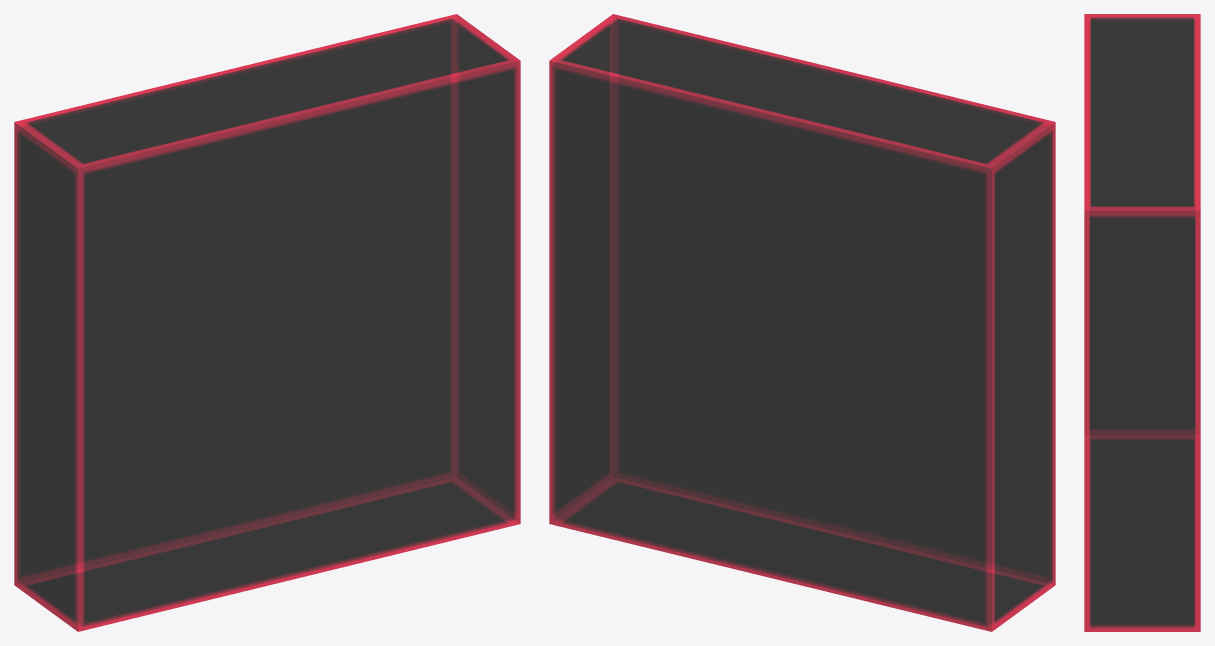
The model's file is large_block.fbx.
The picture shows the model from 3 angles, left to right: view 1: azimuth 30°, elevation 25°; view 2: azimuth 150°, elevation 25°; view 3: azimuth 270°, elevation 25°; orthographic projection. The views are drawn at different scales.
Visible parts, largest first — view 1: pCube1; view 2: pCube1; view 3: pCube1.
Part boxes in pixels (<box>): pCube1: <box>14,14,520,631</box>; pCube1: <box>549,14,1055,631</box>; pCube1: <box>1084,14,1200,631</box>.
Size of the model in its own units: 2 by 2 by 0.5.
